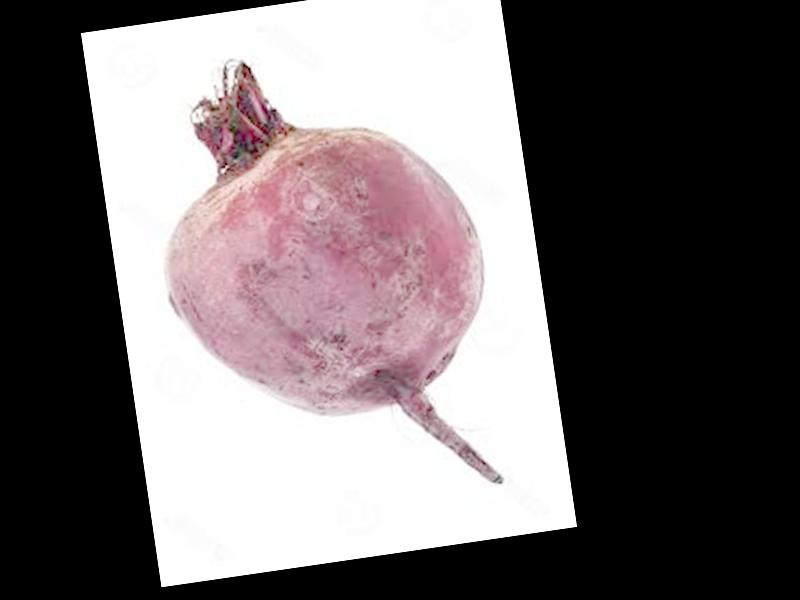Beet: (140, 31, 513, 522)
